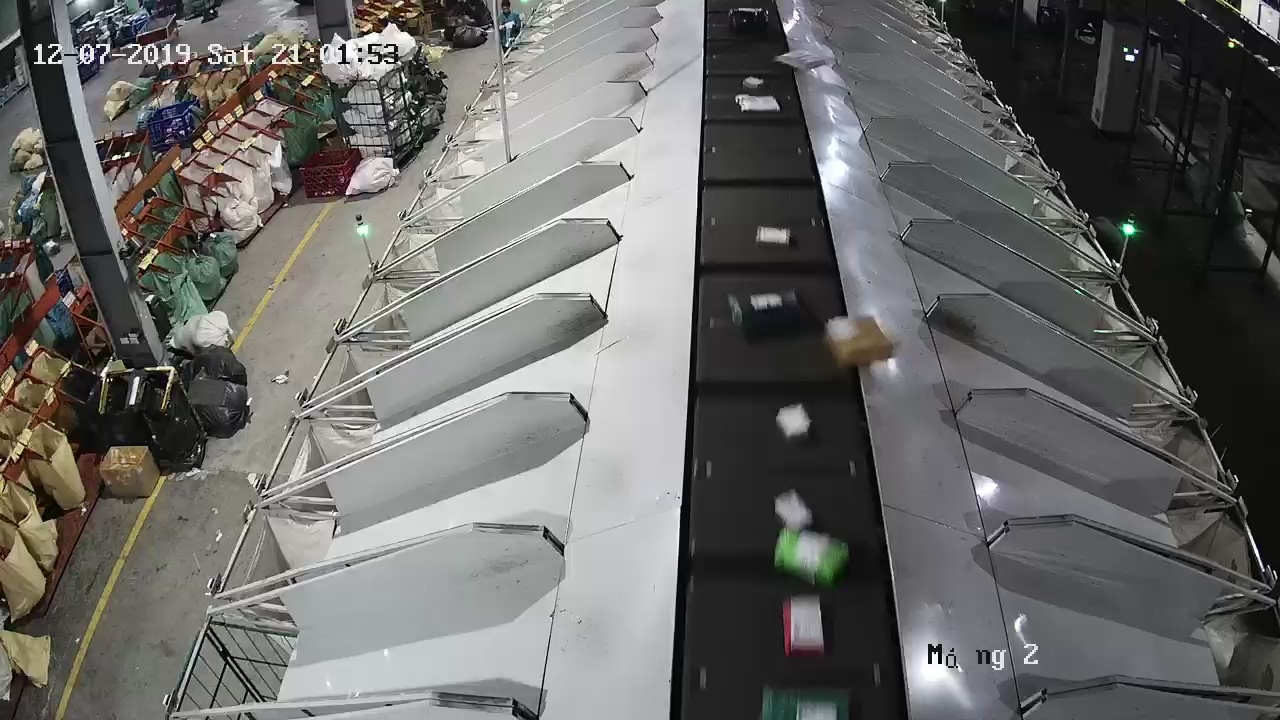parcel: (822, 312, 895, 371), (775, 401, 812, 443)
